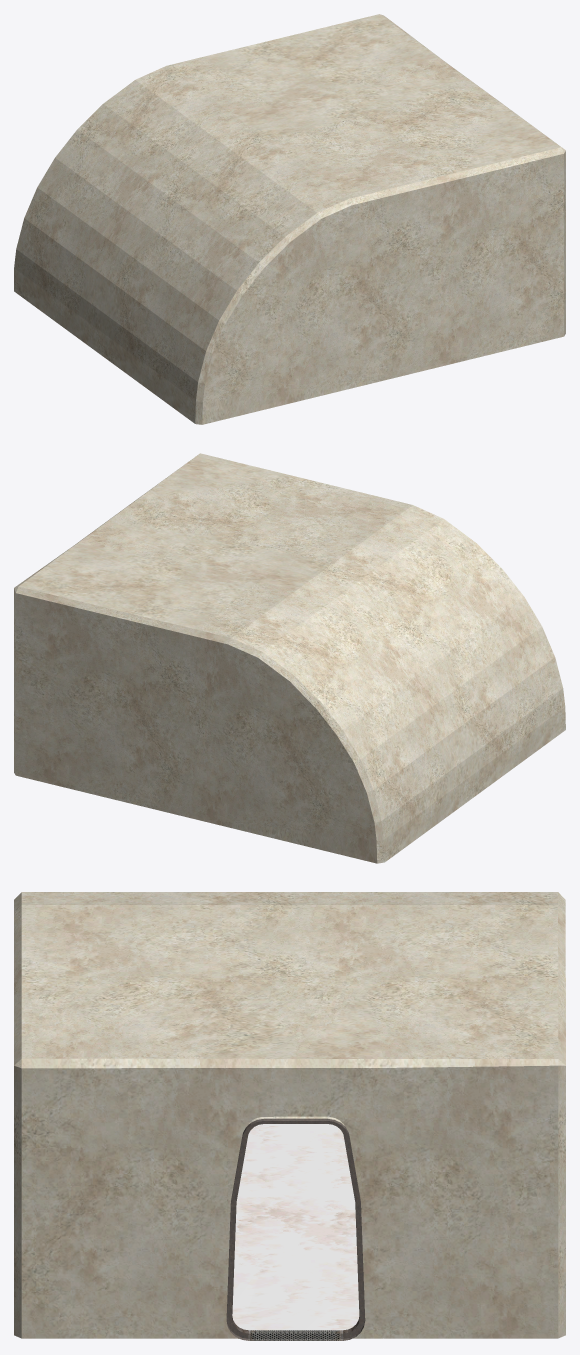
File: ply_tato_assoc_hall_civ_s02_r10_bedroom1_mesh_r10.fbx
3 views of the same model, one above another, from view 1: azimuth 30°, elevation 25°; view 2: azimuth 150°, elevation 25°; view 3: azimuth 270°, elevation 25° (orthographic). The views are drawn at different scales.
Visible parts, largest first — view 1: mesh_node; view 2: mesh_node; view 3: mesh_node.
Part boxes in pixels (x1,y1,x2,y2): mesh_node: (14,14,565,424); mesh_node: (14,453,565,863); mesh_node: (14,892,565,1340).
Bounding box in the file's own units: 8.49 × 4.01 × 7.24.
